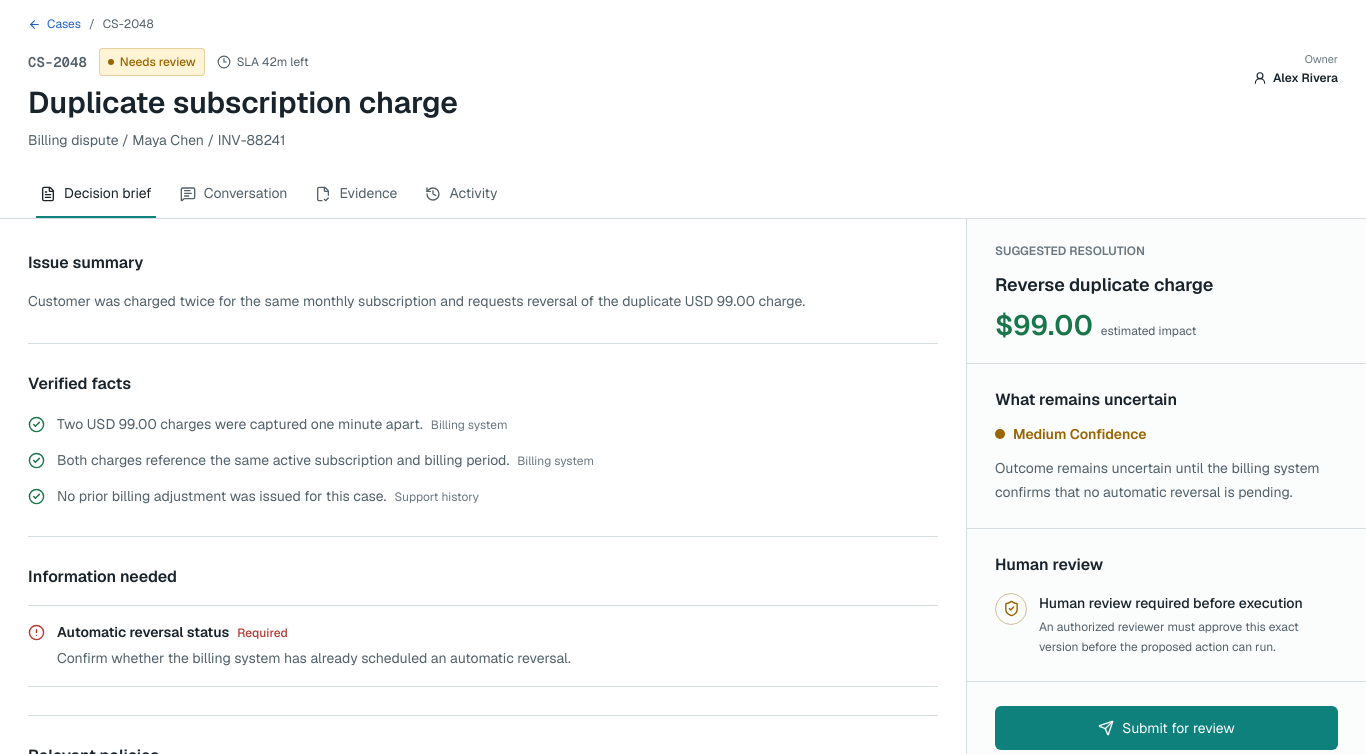
Test: CaseWorkspace › separates facts, uncertainty, evidence, and human authority
The image size is (1366, 754).
Expected: the heading "Issue summary" is shown, [28,252,143,272]
Expected: the heading "Verified facts" is shown, [28,372,131,394]
Click the button "Submit for review" at [1166, 728], box [995,706,1338,750]
(page scrolled)
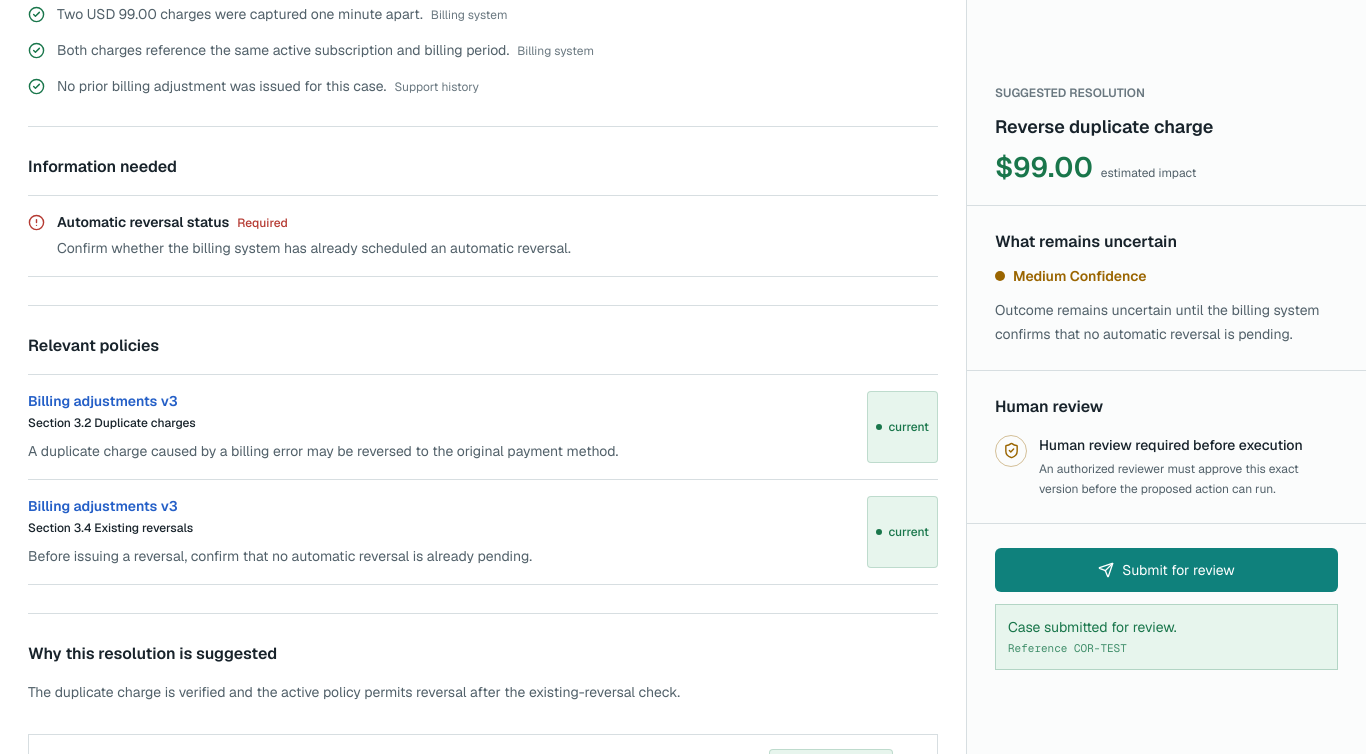
Now the message shows "submitted for review", box [1008,617,1177,635]
